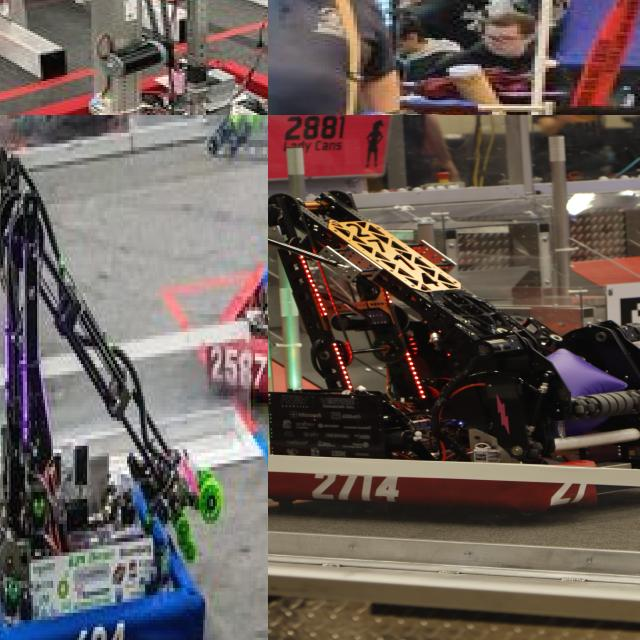FRC-Robots: (268, 176, 640, 532), (0, 192, 215, 640), (268, 6, 640, 115), (0, 0, 268, 115), (221, 115, 268, 474)
